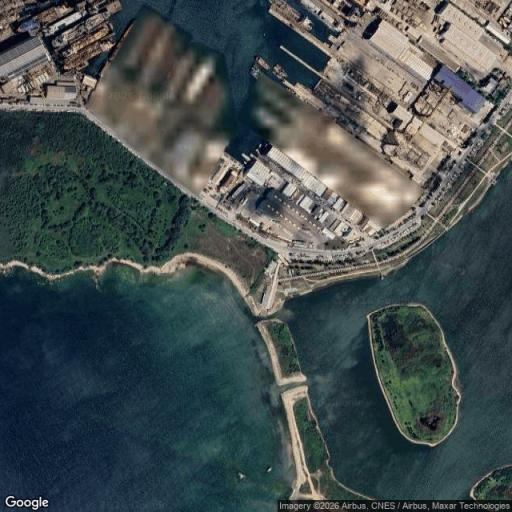ship: (51, 12, 111, 47), (61, 35, 113, 71), (16, 2, 74, 32), (299, 0, 346, 34), (102, 20, 134, 68), (63, 24, 111, 55), (269, 0, 314, 33), (252, 56, 269, 78), (273, 64, 287, 79), (255, 56, 269, 70), (251, 64, 260, 79), (238, 472, 246, 479), (266, 466, 272, 474)
